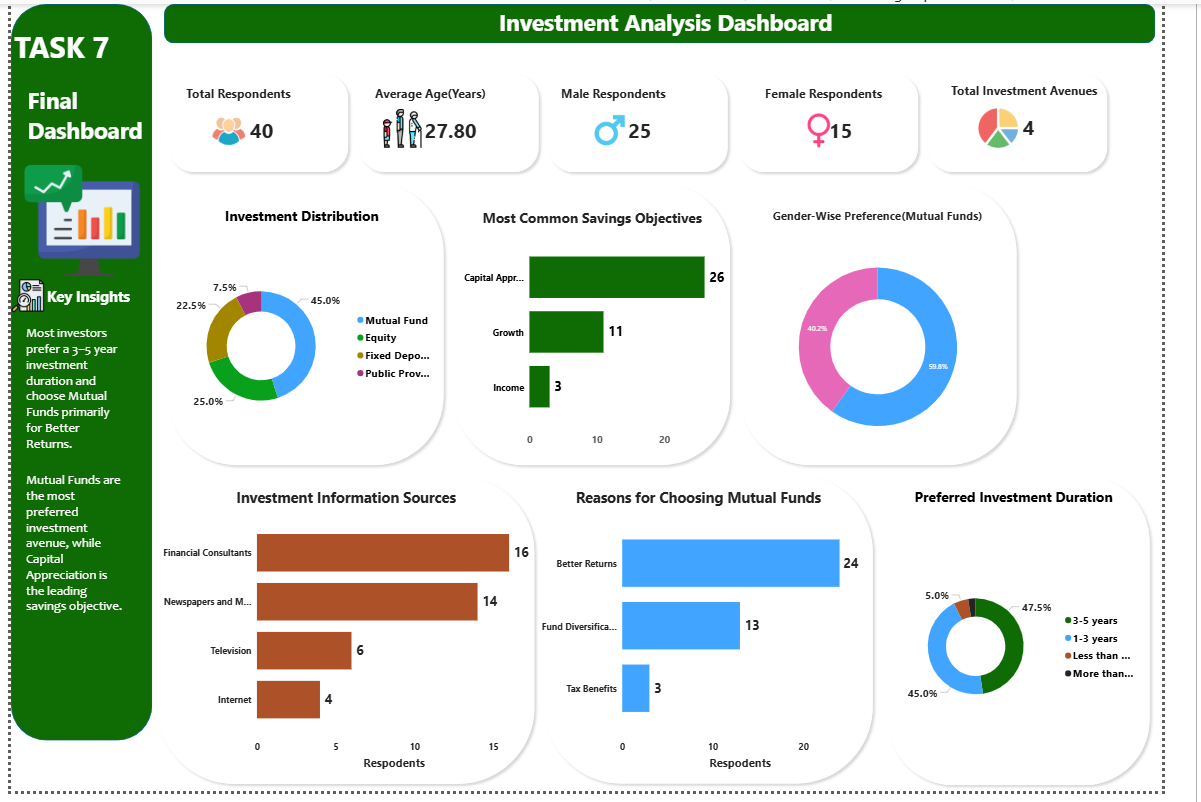

The page's visual inventory and layout, read from the dashboard file:
{"tool":"powerbi","page":{"name":"Task 7","canvas":[1900,1300],"ordinal":6},"visuals":[{"type":"shape","box":[0,0,233.3,1216.7],"z":0},{"type":"shape","box":[252.5,0,1637.5,65],"z":1000},{"type":"textbox","box":[0,32.5,215,97.5],"z":2000},{"type":"image","box":[20,252.5,195,210],"z":3000},{"type":"textbox","box":[22.5,130,210,155],"z":4000},{"type":"textbox","box":[272.5,0,1617.5,65],"z":5000},{"type":"shape","box":[566.7,106.7,313.3,180],"z":6000},{"type":"shape","box":[253.3,106.7,313.3,180],"z":7000},{"type":"shape","box":[880,106.7,313.3,180],"z":8000},{"type":"shape","box":[1193.3,106.7,313.3,180],"z":9000},{"type":"shape","box":[1506.7,106.7,313.3,180],"z":10000},{"type":"shape","box":[723.3,286.7,473.3,483.3],"z":11000},{"type":"shape","box":[250,286.7,473.3,483.3],"z":12000},{"type":"shape","box":[1196.7,286.7,473.3,483.3],"z":13000},{"type":"shape","box":[232,770.7,641,526.9],"z":14000},{"type":"shape","box":[873,768.8,560.4,528.9],"z":15000},{"type":"shape","box":[1439.3,770.7,450.3,528.9],"z":16000},{"type":"cardVisual","fields":{"Data":["Data_set 2.Total Respondents"]},"box":[260,80,308,206],"z":17000},{"type":"image","box":[304,184,110,54],"z":18000},{"type":"cardVisual","fields":{"Data":["Data_set 2.Average Age"]},"box":[572,80,308,206],"z":19000},{"type":"image","box":[606,174,78,64],"z":20000},{"type":"cardVisual","fields":{"Data":["Data_set 2.Male Respondents"]},"box":[880,80,318,206],"z":21000},{"type":"cardVisual","fields":{"Data":["Data_set 2.Female Respondents"]},"box":[1216,80,308,206],"z":22000},{"type":"cardVisual","fields":{"Data":["Data_set 2.Total Investment Avenues"]},"box":[1524,82,314,190],"z":23000},{"type":"image","box":[960,178,60,60],"z":24000},{"type":"image","box":[1298,180,72,56],"z":25000},{"type":"image","box":[1590,172,80,68],"z":26000},{"type":"donutChart","title":"Investment Distribution","fields":{"Category":["Data_set 2.Avenue"],"Y":["CountNonNull(Data_set 2.Investment_Avenues)"]},"box":[250,335,460,435],"z":27000},{"type":"clusteredBarChart","title":"Most Common Savings Objectives","fields":{"Category":["Data_set 2.Objective"],"Y":["CountNonNull(Data_set 2.Objective)"]},"box":[726,336,468,404],"z":28000},{"type":"donutChart","title":"Gender-Wise Preference(Mutual Funds)","fields":{"Category":["Data_set 2.gender"],"Y":["Sum(Data_set 2.Mutual_Funds)"]},"box":[1216.7,336.7,430,433.3],"z":29000},{"type":"barChart","title":"Reasons for Choosing Mutual Funds","fields":{"Category":["Data_set 2.Reason_Mutual"],"Y":["CountNonNull(Data_set 2.Reason_Mutual)"]},"box":[856.1,798,556.2,471.6],"z":30000},{"type":"barChart","title":"Investment Information Sources","fields":{"Y":["CountNonNull(Data_set 2.Reason_Mutual)"],"Category":["Data_set 2.Source"]},"box":[232.2,798,640.9,471.6],"z":31000},{"type":"donutChart","title":"Preferred Investment Duration","fields":{"Category":["Data_set 2.Duration"],"Y":["CountNonNull(Data_set 2.Duration)"]},"box":[1441.3,798,428,500.6],"z":32000},{"type":"textbox","box":[55.6,461.9,159.6,75],"z":32001},{"type":"image","box":[0,377.3,55.6,210.4],"z":32002},{"type":"textbox","box":[19.3,524.8,171.7,244.3],"z":32003},{"type":"textbox","box":[19.3,769,171.7,345.8],"z":32004}]}

Visuals, with their boxes in screenshot pixels (x1, y1, x2, y2), scaled from the page's 1900x1300 canvas onto the 1201x802 screenshot:
shape: [0, 0, 147, 751]
shape: [160, 0, 1195, 40]
textbox: [0, 20, 136, 80]
image: [13, 156, 136, 285]
textbox: [14, 80, 147, 176]
textbox: [172, 0, 1195, 40]
shape: [358, 66, 556, 177]
shape: [160, 66, 358, 177]
shape: [556, 66, 754, 177]
shape: [754, 66, 952, 177]
shape: [952, 66, 1150, 177]
shape: [457, 177, 756, 475]
shape: [158, 177, 457, 475]
shape: [756, 177, 1056, 475]
shape: [147, 475, 552, 801]
shape: [552, 474, 906, 801]
shape: [910, 475, 1194, 801]
cardVisual - Data_set 2.Total Respondents: [164, 49, 359, 176]
image: [192, 114, 262, 147]
cardVisual - Data_set 2.Average Age: [362, 49, 556, 176]
image: [383, 107, 432, 147]
cardVisual - Data_set 2.Male Respondents: [556, 49, 757, 176]
cardVisual - Data_set 2.Female Respondents: [769, 49, 963, 176]
cardVisual - Data_set 2.Total Investment Avenues: [963, 51, 1162, 168]
image: [607, 110, 645, 147]
image: [820, 111, 866, 146]
image: [1005, 106, 1056, 148]
"Investment Distribution" donutChart: [158, 207, 449, 475]
"Most Common Savings Objectives" clusteredBarChart: [459, 207, 755, 457]
"Gender-Wise Preference(Mutual Funds)" donutChart: [769, 208, 1041, 475]
"Reasons for Choosing Mutual Funds" barChart: [541, 492, 893, 783]
"Investment Information Sources" barChart: [147, 492, 552, 783]
"Preferred Investment Duration" donutChart: [911, 492, 1182, 801]
textbox: [35, 285, 136, 331]
image: [0, 233, 35, 363]
textbox: [12, 324, 121, 474]
textbox: [12, 474, 121, 688]
